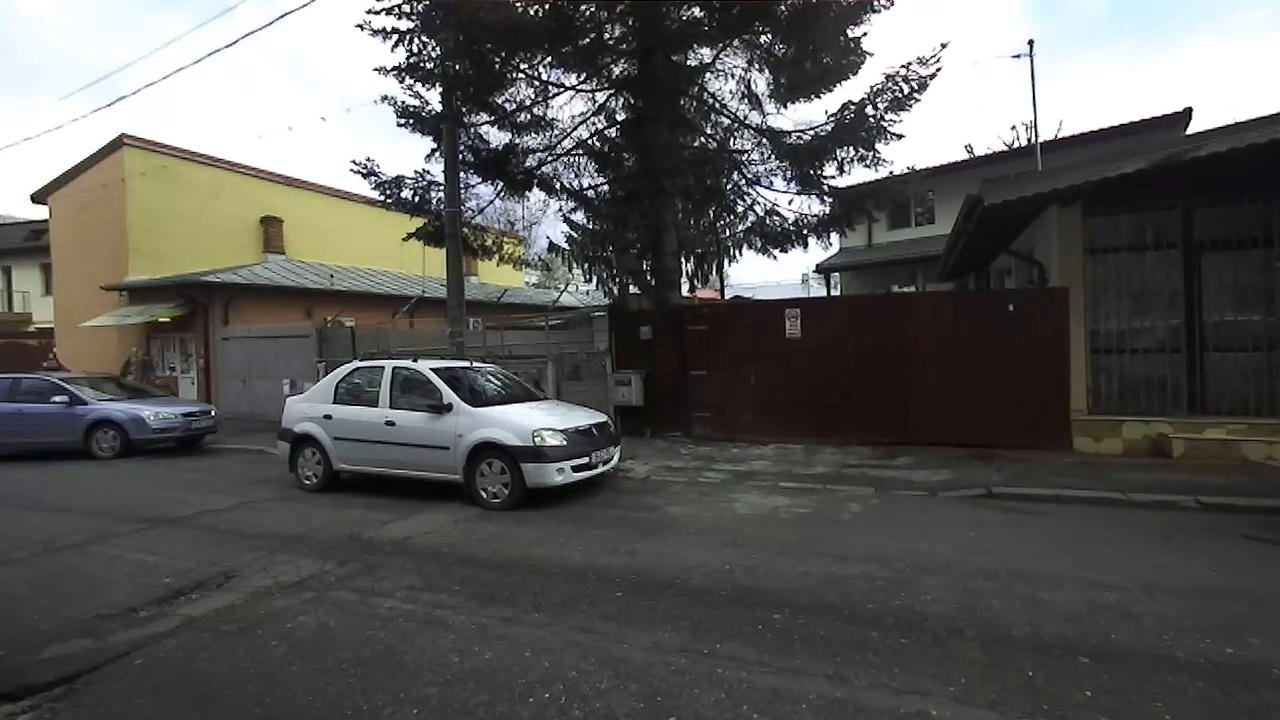pothole: (0, 638, 154, 717), (106, 561, 244, 633)
